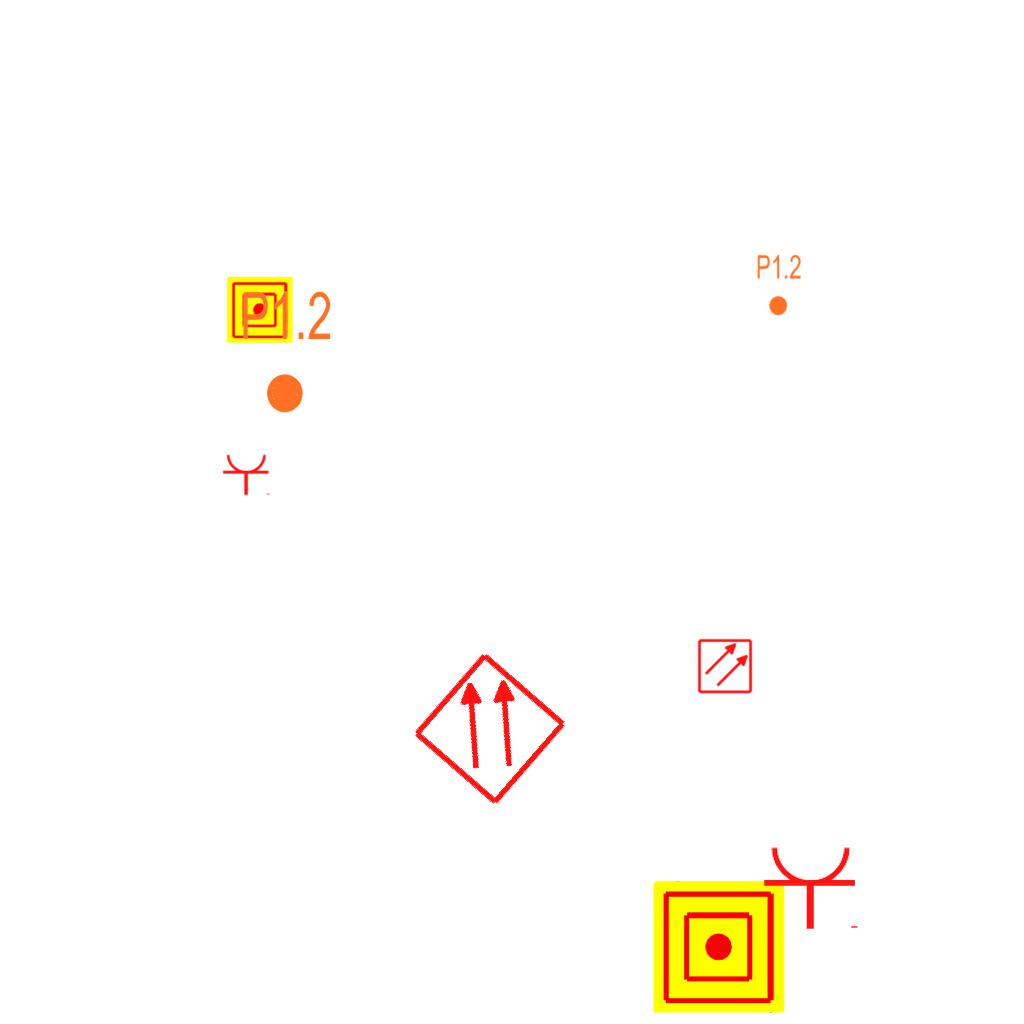Downlight_LED_Einbauleuchten_Flur: (240, 288, 333, 416), (756, 253, 802, 317)
NAM-Nichtautomatischer_Melder: (653, 881, 785, 1013), (227, 277, 293, 343)
RMO_Rauchmelder_optischer: (409, 648, 570, 809), (697, 638, 753, 694)
Schukosteckdose_einfach: (762, 844, 862, 931), (222, 453, 272, 496)
